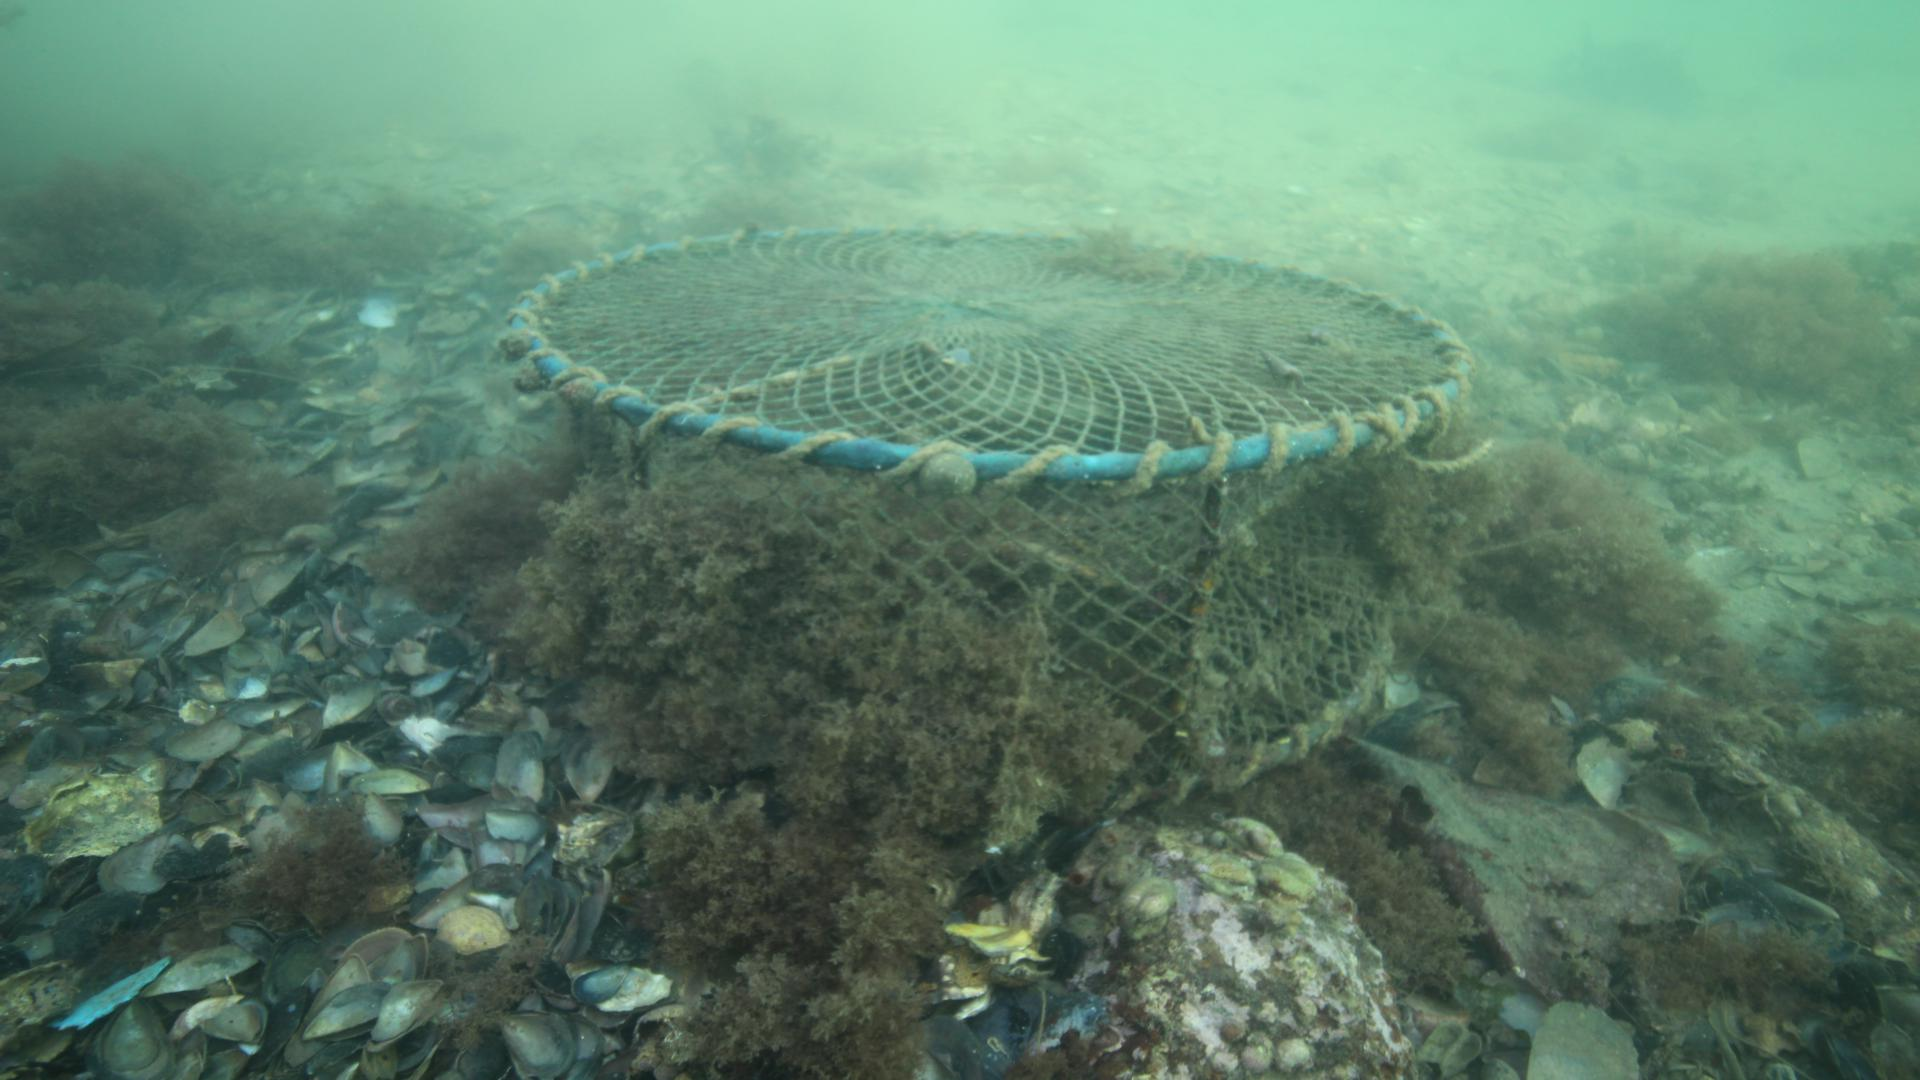circular fish trap: (496, 223, 1478, 818)
